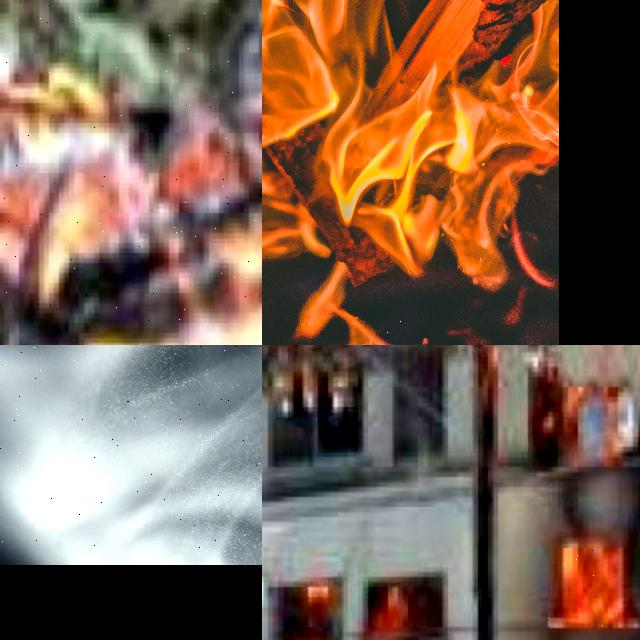fire: (262, 0, 559, 296), (0, 34, 262, 345), (528, 370, 640, 470), (550, 534, 640, 630)
smoke: (0, 345, 262, 564)
